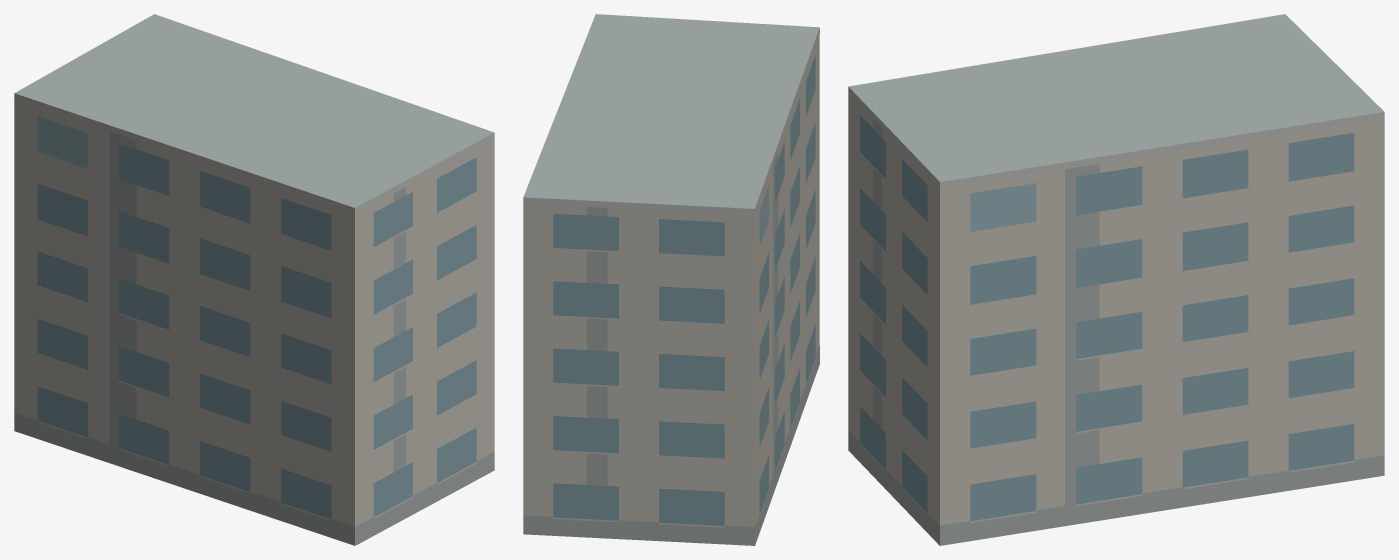
File: survey-upis-32995583.glb
3 renders of one model, left to right at view 1: azimuth 30°, elevation 25°; view 2: azimuth 150°, elevation 25°; view 3: azimuth 270°, elevation 25°, orthographic. The views are drawn at different scales.
Visible parts, largest first — view 1: survey-upis-32995583.tmp; view 2: survey-upis-32995583.tmp; view 3: survey-upis-32995583.tmp.
Part boxes in pixels (left/top/right/bottom): survey-upis-32995583.tmp: left=14, top=14, right=494, bottom=545; survey-upis-32995583.tmp: left=523, top=14, right=819, bottom=545; survey-upis-32995583.tmp: left=848, top=14, right=1384, bottom=545.
Size of the model in its own units: 12.89 by 13 by 17.38.
